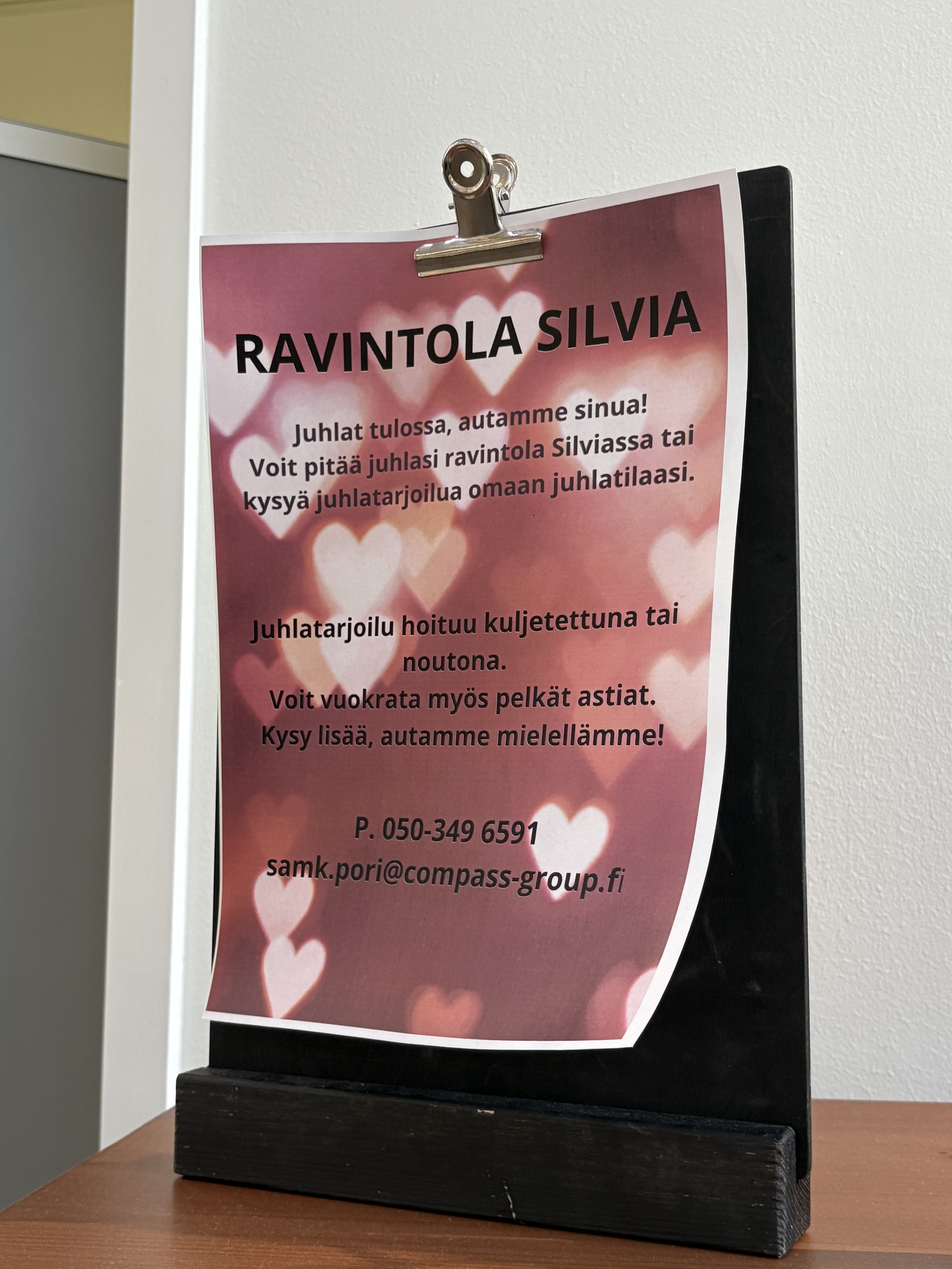paper: (183, 181, 749, 1050)
